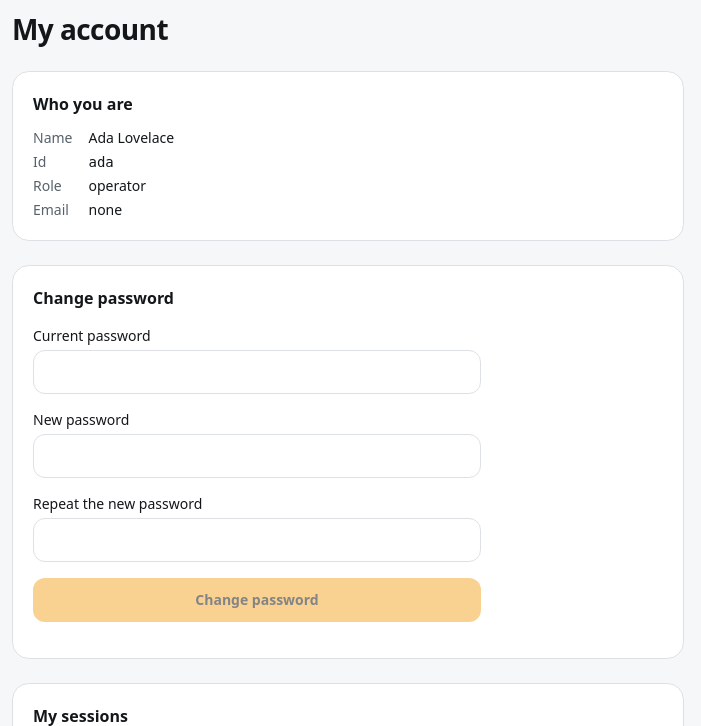
My account › posts {current,new} once, clears the fields, says so and asks the session again
The width and height of the screenshot is (701, 726).
Expected: the text "Ada Lovelace" is shown, [88, 128, 174, 147]
In the password field labelled "Current password": x=257, y=372 [33, 350, 481, 394], type "old"
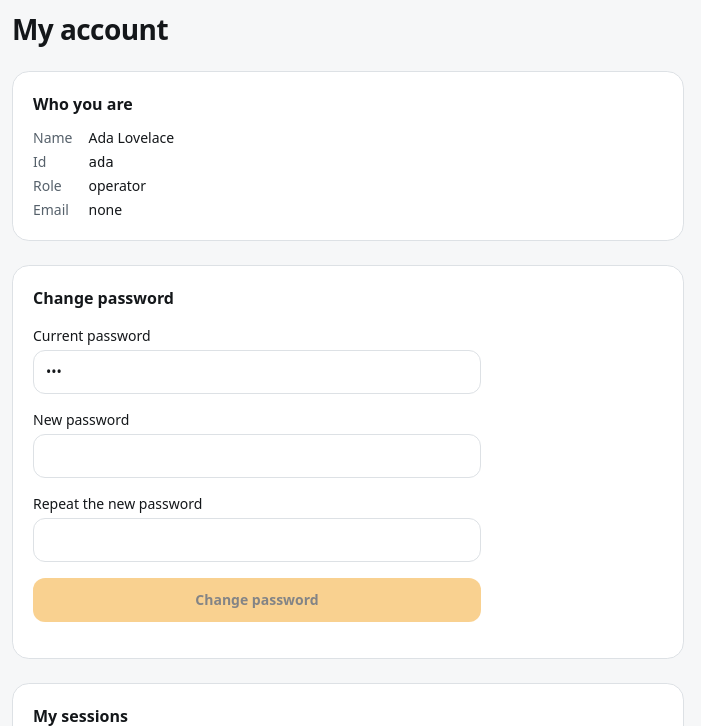
In the password field labelled "New password": x=257, y=456 [33, 434, 481, 478], type "new-secret"
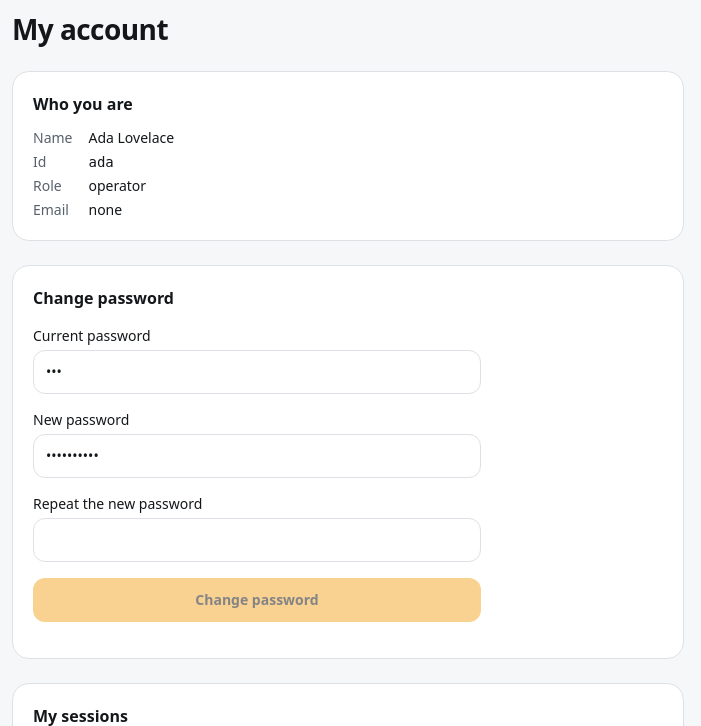
In the password field labelled "Repeat the new password": x=257, y=540 [33, 518, 481, 562], type "new-secret"
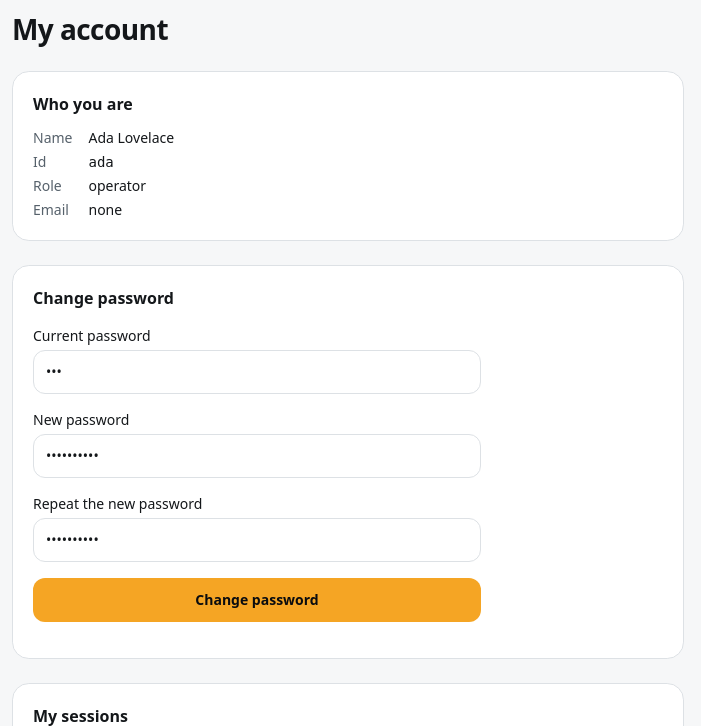
Click the button "Change password": x=257, y=600 [33, 578, 481, 622]
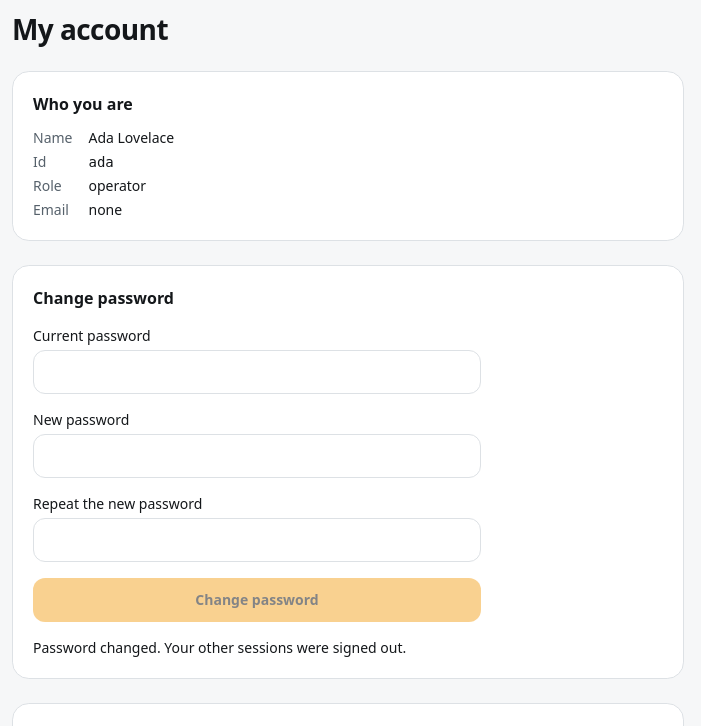
Now the text "Password changed. Your other sessions were signed out." is shown, box [33, 638, 406, 657]
